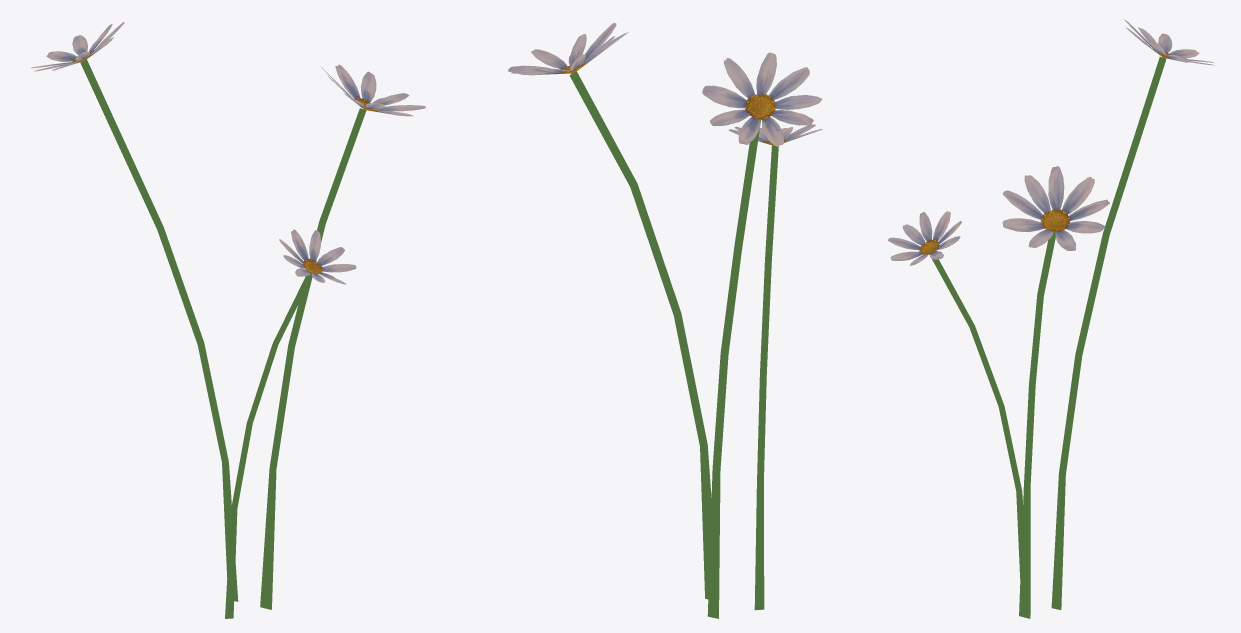
File: MEADOW_SM_Flower_05_01.gltf
3 renders of one model, left to right at view 1: azimuth 30°, elevation 25°; view 2: azimuth 150°, elevation 25°; view 3: azimuth 270°, elevation 25°, orthographic. The views are drawn at different scales.
Visible parts, largest first — view 1: SM_Flower_05_01_LOD0; view 2: SM_Flower_05_01_LOD0; view 3: SM_Flower_05_01_LOD0.
Part boxes in pixels (x1,y1,x2,y2): SM_Flower_05_01_LOD0: [31, 22, 426, 618]; SM_Flower_05_01_LOD0: [508, 23, 822, 618]; SM_Flower_05_01_LOD0: [888, 19, 1214, 618].
Bounding box in the file's own units: 0.4271 × 0.6592 × 0.3756.
Materials: 1 (1 with a texture image).
